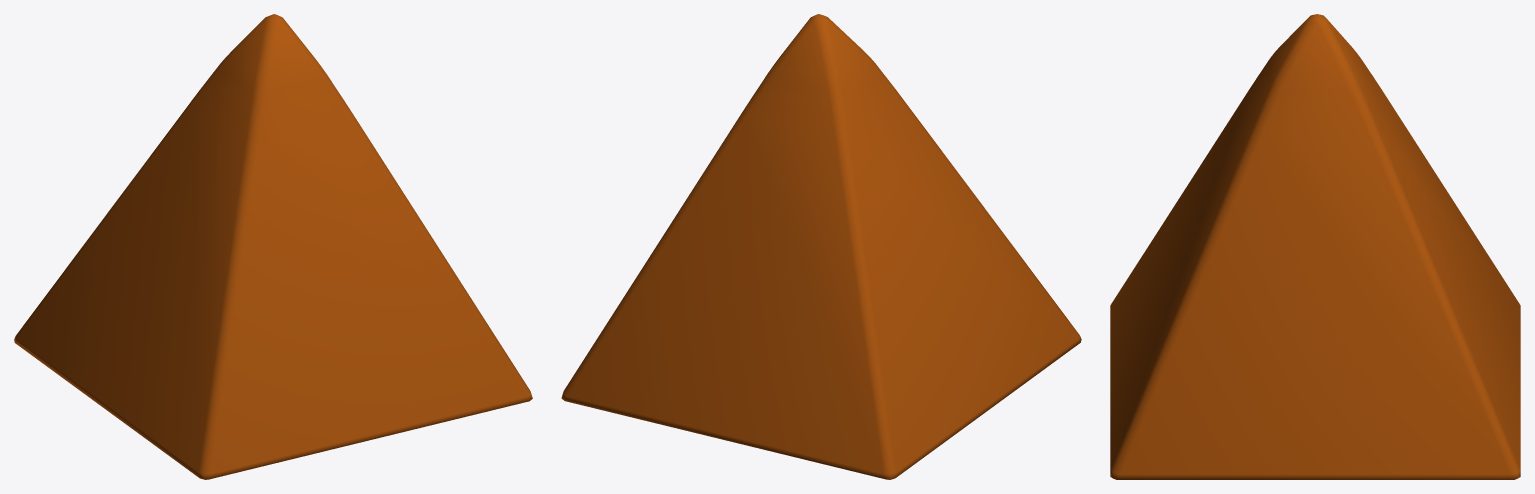
Rendered from bush-23_col.fbx.
The picture shows the model from 3 angles, left to right: view 1: azimuth 30°, elevation 25°; view 2: azimuth 150°, elevation 25°; view 3: azimuth 270°, elevation 25°; orthographic projection. The views are drawn at different scales.
Parts seen in each view (by area): view 1: bush-23.col; view 2: bush-23.col; view 3: bush-23.col.
Boxes of the visible parts, x1,y1,x2,y2 form: bush-23.col: [14, 14, 532, 479]; bush-23.col: [561, 14, 1081, 479]; bush-23.col: [1110, 14, 1520, 479].
Bounding box in the file's own units: 0.0641 × 0.0659 × 0.0641.
1 material, 1 textured.
